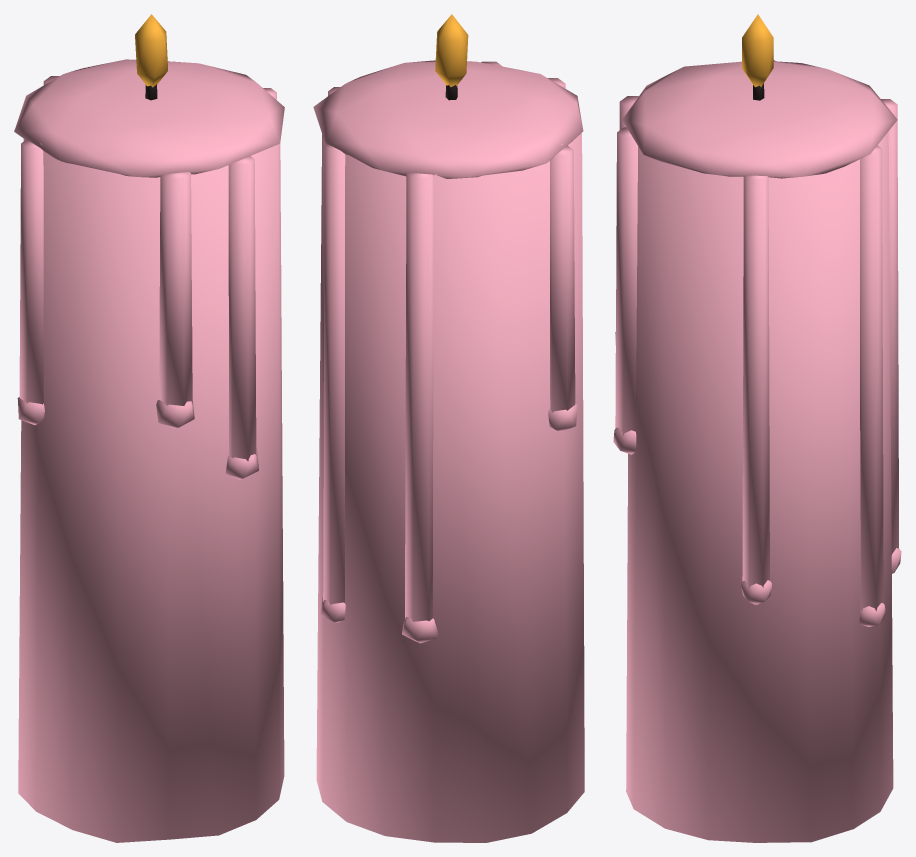
File: Lake_Candle0.fbx
3 views of the same model, side by side, from view 1: azimuth 30°, elevation 25°; view 2: azimuth 150°, elevation 25°; view 3: azimuth 270°, elevation 25° (orthographic).
Visible parts, largest first — view 1: Lake_Candle0; view 2: Lake_Candle0; view 3: Lake_Candle0.
Part boxes in pixels (x1=…): Lake_Candle0: x1=14, y1=14, x2=284, y2=842; Lake_Candle0: x1=313, y1=14, x2=584, y2=842; Lake_Candle0: x1=613, y1=14, x2=901, y2=842.
Bounding box in the file's own units: 2.2 × 6.39 × 2.15.
